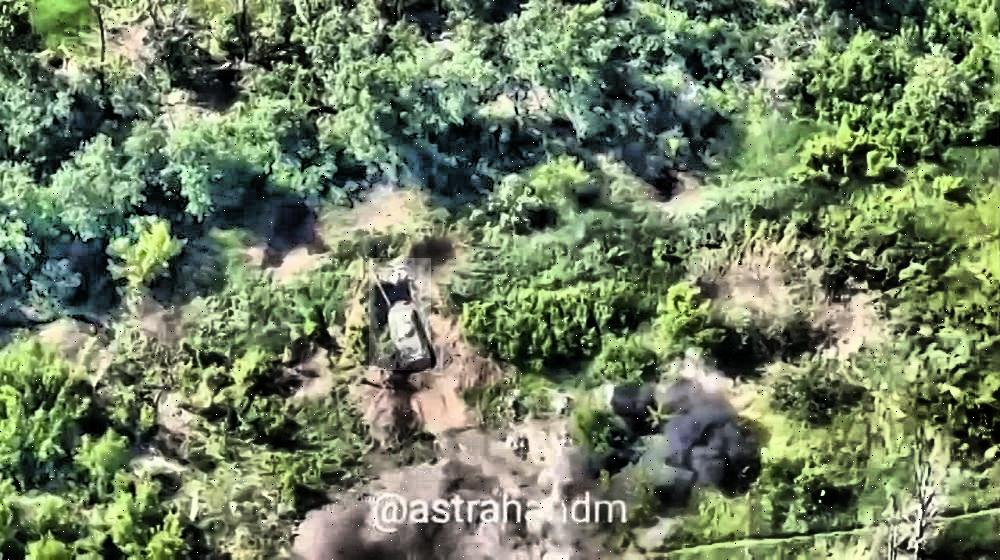military-vehicle: (369, 258, 431, 370)
